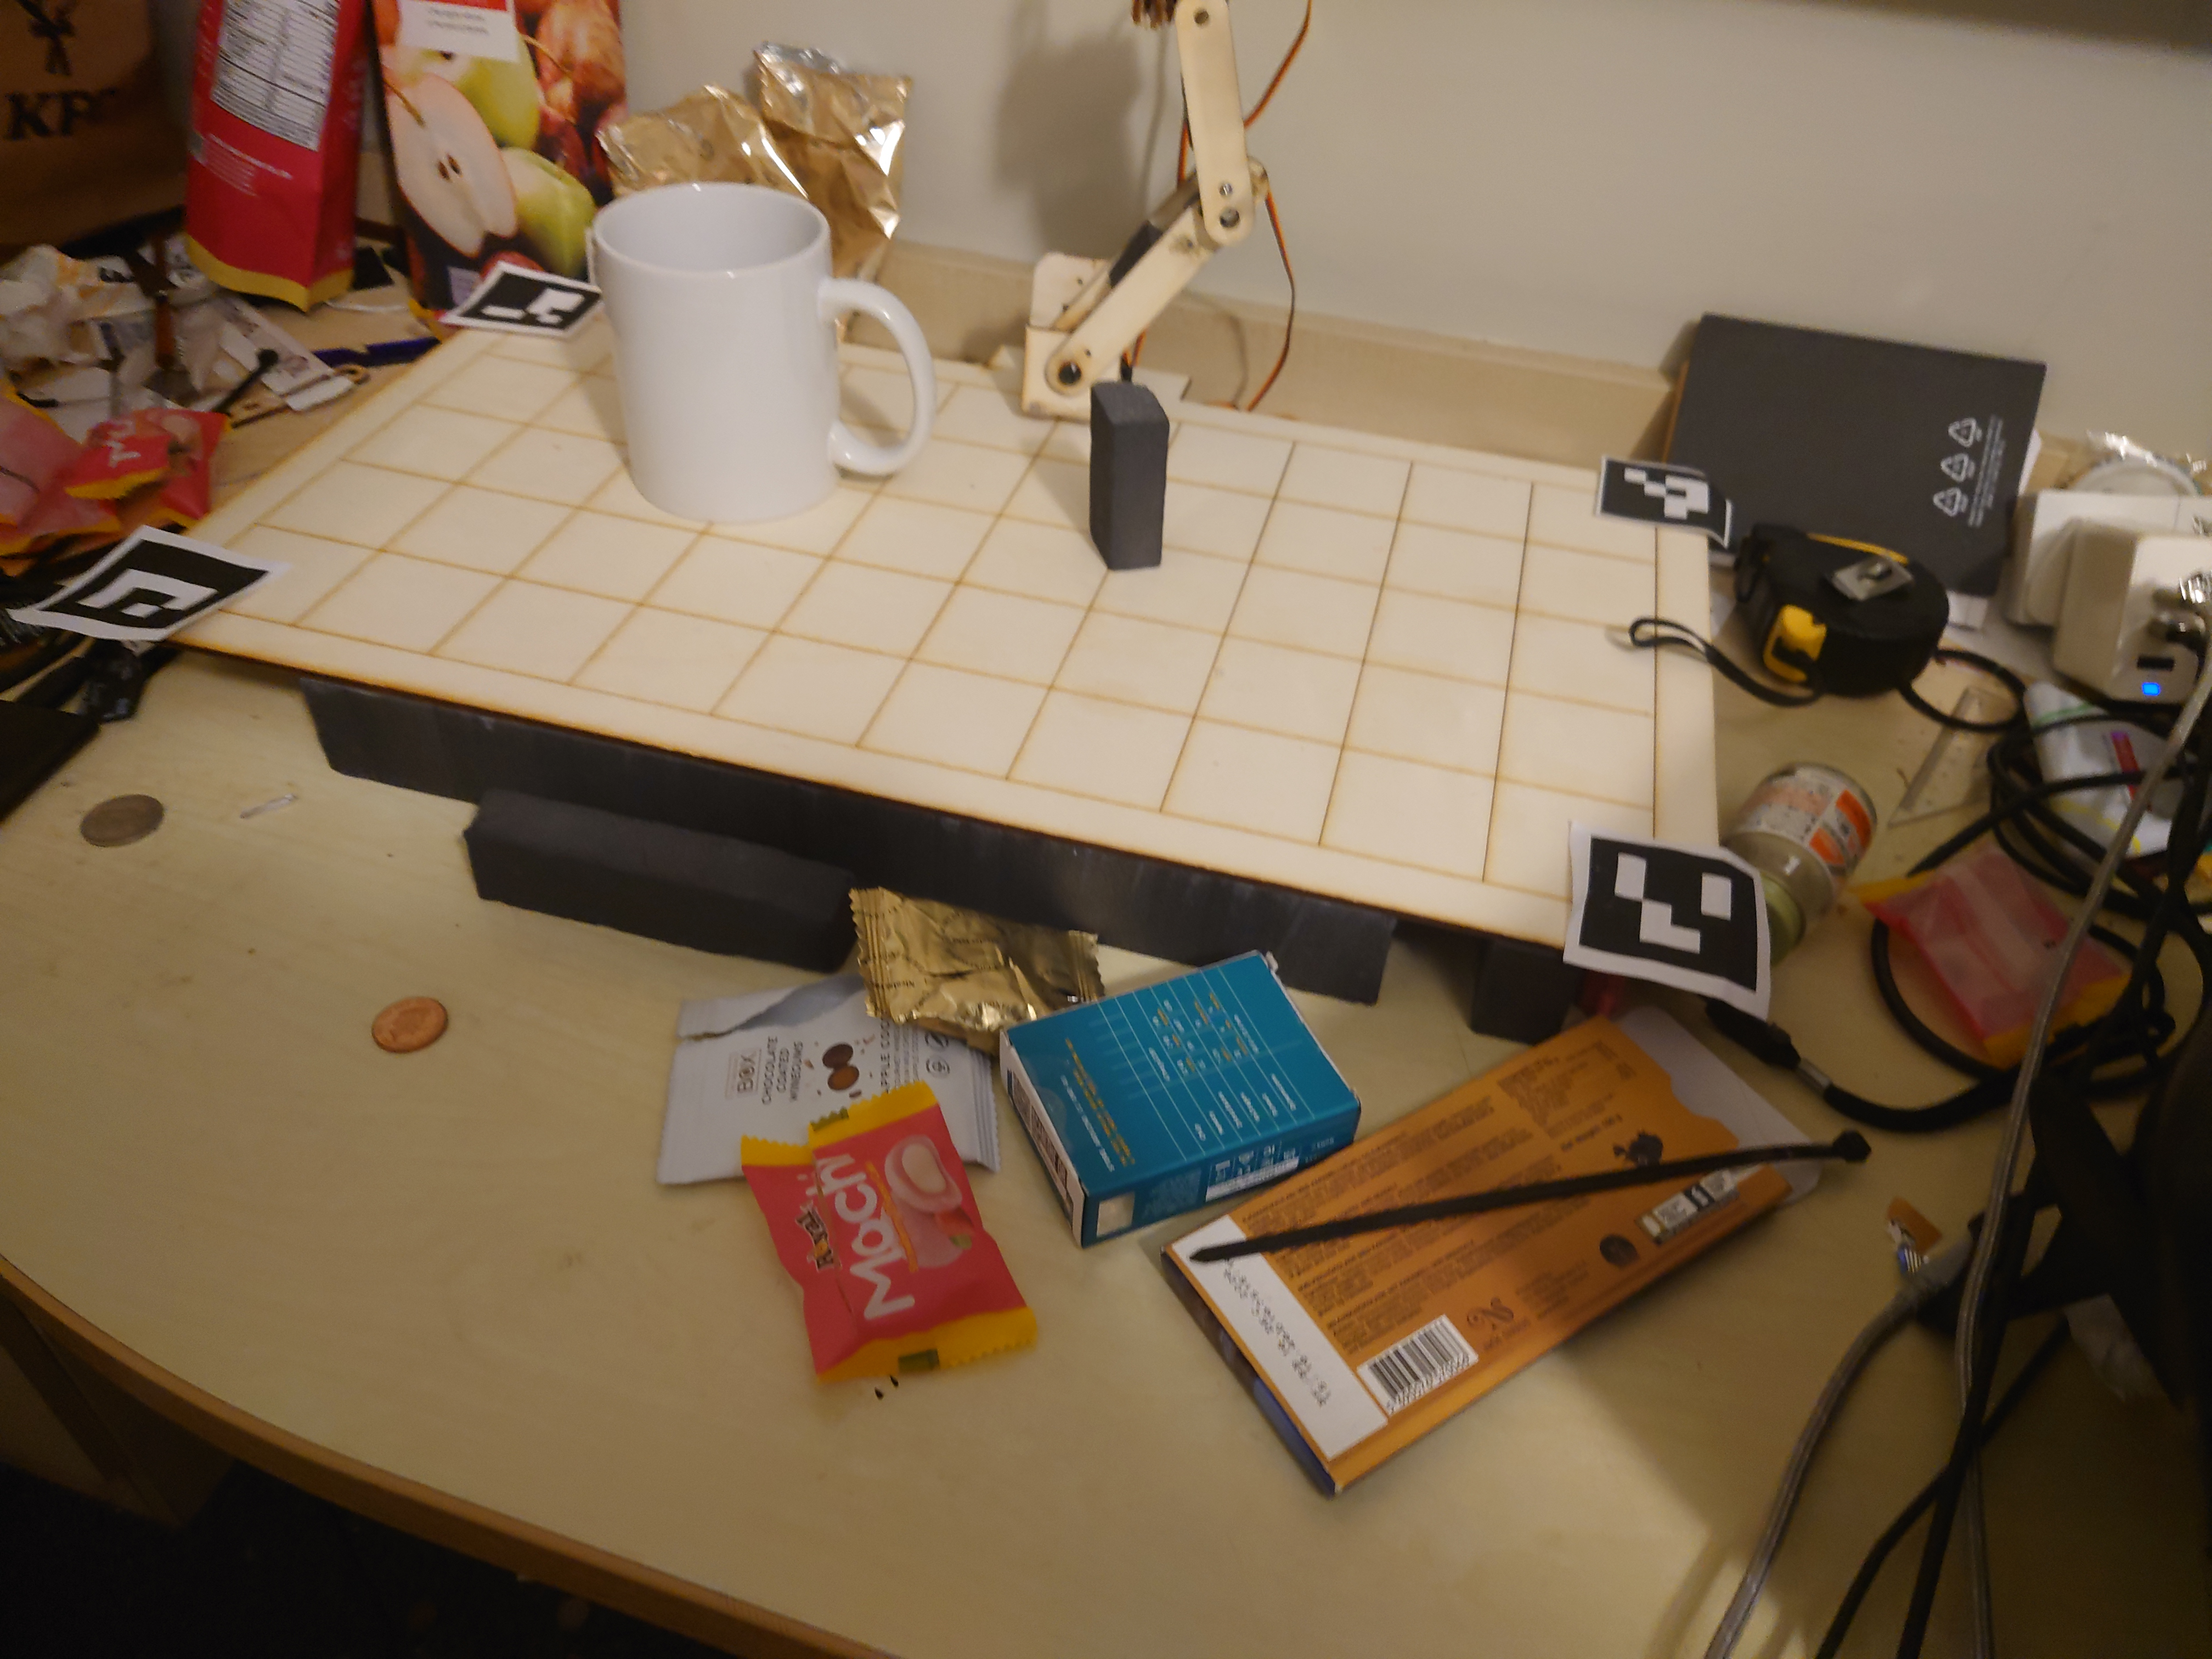cup: (583, 164, 934, 523), (1083, 373, 1170, 573)
